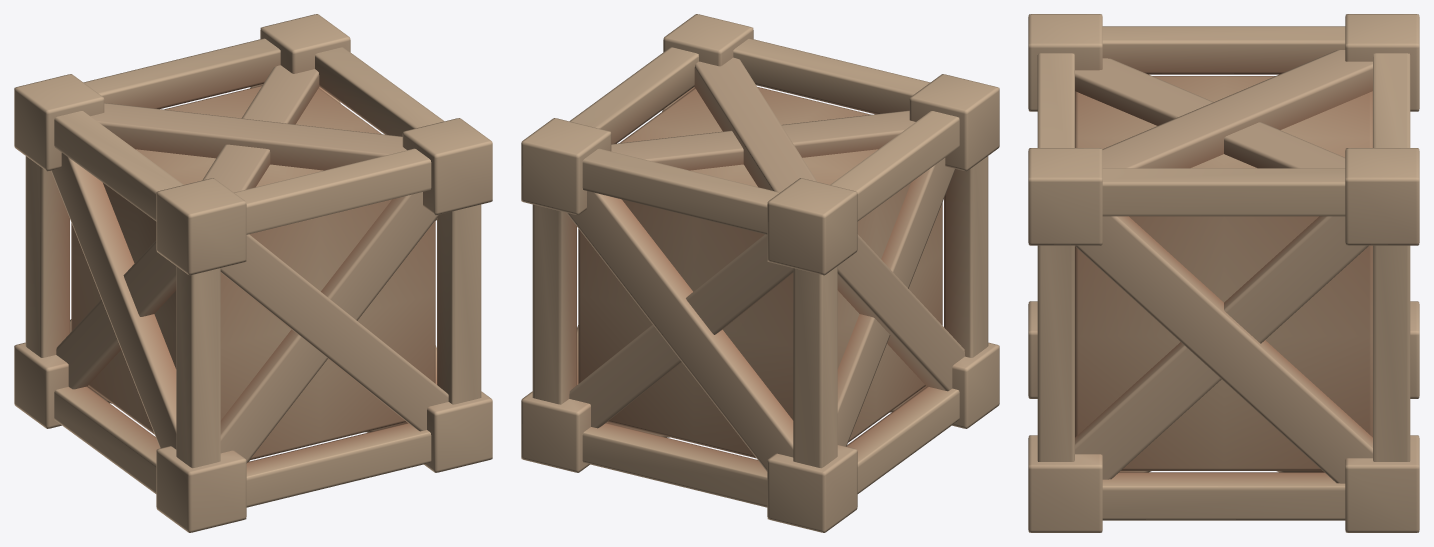
Rendered from WoodenCrate.fbx.
3 renders of one model, left to right at view 1: azimuth 30°, elevation 25°; view 2: azimuth 150°, elevation 25°; view 3: azimuth 270°, elevation 25°, orthographic. The views are drawn at different scales.
Visible parts, largest first — view 1: Box; view 2: Box; view 3: Box.
Boxes of the visible parts, x1,y1,x2,y2 form: Box: (14, 14, 492, 532); Box: (521, 14, 999, 532); Box: (1028, 14, 1419, 532).
Bounding box in the file's own units: 210 × 210 × 210.
